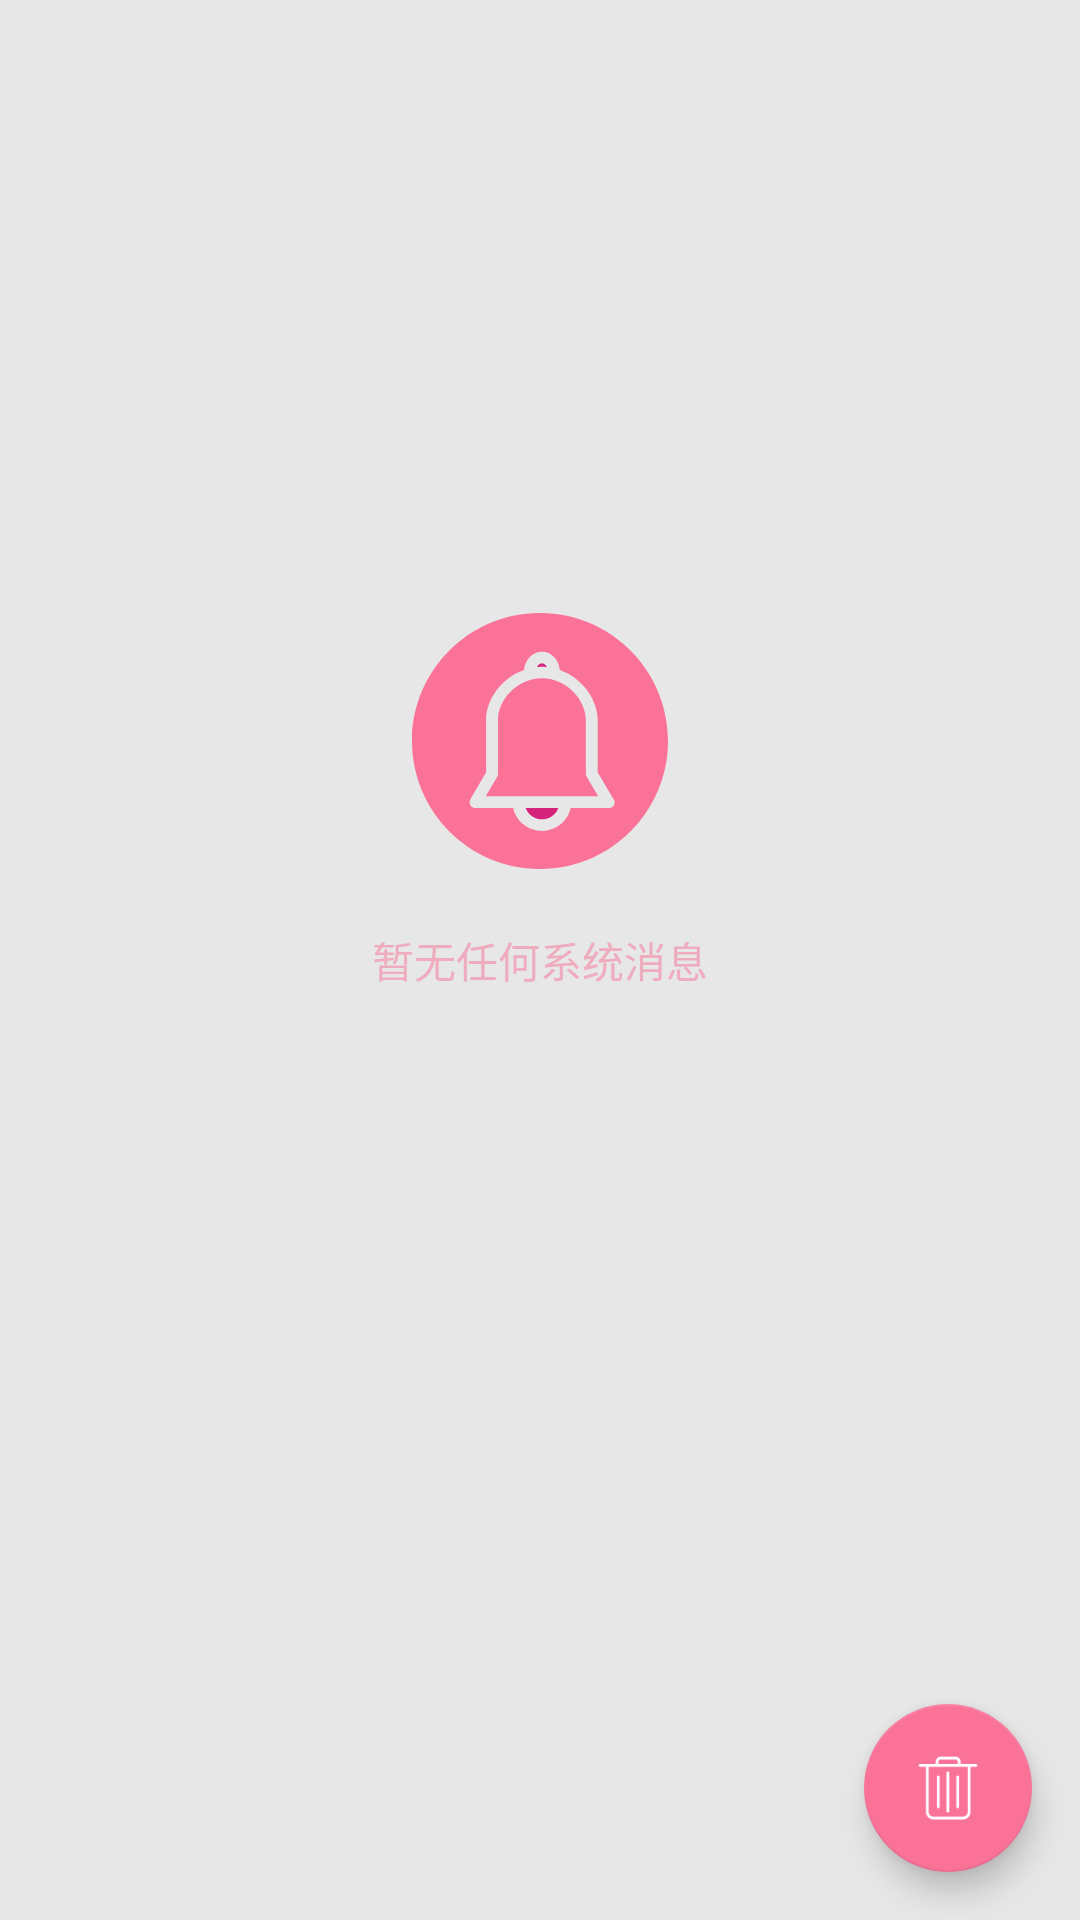

Point at icon controls on the screen. Image size 1080px x 1920px, points as [x,y].
delete: [948,1788]
